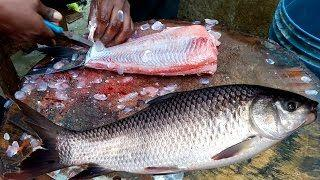Indian Carp: (0, 82, 317, 179)
